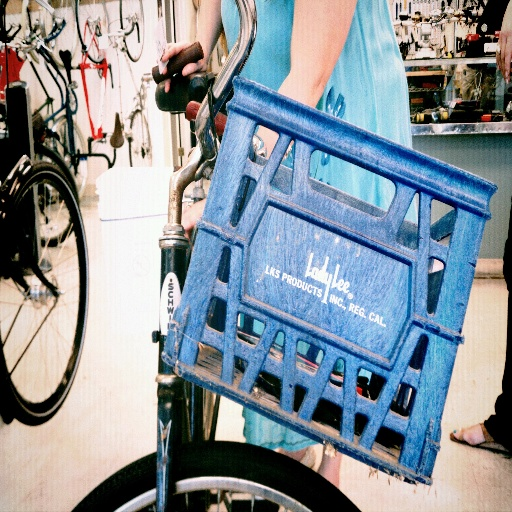hand: (144, 29, 208, 92), (494, 1, 511, 87), (180, 195, 206, 250)
